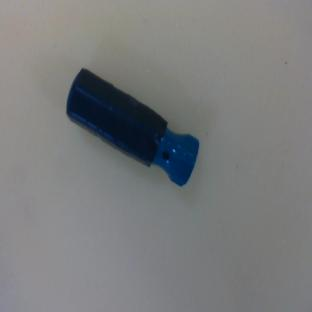part_2_bad: (55, 66, 209, 189)
